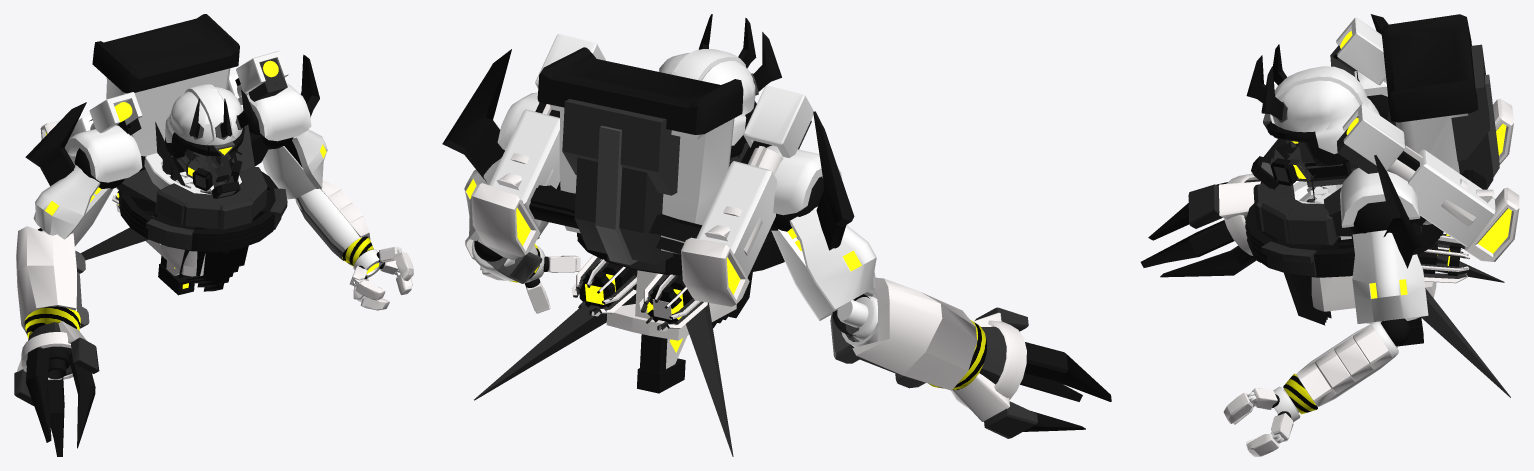
File: solver_juggernaut.glb
3 views of the same model, side by side, from view 1: azimuth 30°, elevation 25°; view 2: azimuth 150°, elevation 25°; view 3: azimuth 270°, elevation 25° (orthographic). The views are drawn at different scales.
Parts seen in each view (by area): view 1: Object_10, Object_16, Object_18, Object_9, Object_11, Object_8, Object_21, Object_15, Object_2, Object_19; view 2: Object_16, Object_9, Object_10, Object_18, Object_11, Object_5, Object_21, Object_3, Object_8, Object_19, Object_2, Object_15 (+1 smaller); view 3: Object_10, Object_16, Object_9, Object_18, Object_8, Object_11, Object_5, Object_2, Object_19, Object_21, Object_3, Object_15 (+1 smaller).
Part boxes in pixels (left/top/right/bottom): Object_10: left=26, top=14, right=385, bottom=456; Object_16: left=33, top=50, right=383, bottom=311; Object_18: left=14, top=58, right=287, bottom=405; Object_9: left=16, top=84, right=413, bottom=379; Object_11: left=25, top=54, right=319, bottom=295; Object_8: left=165, top=86, right=242, bottom=145; Object_21: left=75, top=115, right=345, bottom=328; Object_15: left=24, top=236, right=373, bottom=338; Object_2: left=184, top=84, right=235, bottom=145; Object_19: left=45, top=60, right=378, bottom=288; Object_16: left=464, top=33, right=878, bottom=347; Object_9: left=465, top=104, right=1026, bottom=421; Object_10: left=474, top=14, right=1111, bottom=431; Object_18: left=474, top=120, right=1037, bottom=456; Object_11: left=442, top=49, right=854, bottom=393; Object_5: left=562, top=99, right=680, bottom=195; Object_21: left=486, top=73, right=925, bottom=388; Object_3: left=574, top=157, right=673, bottom=264; Object_8: left=658, top=52, right=755, bottom=145; Object_19: left=466, top=179, right=861, bottom=352; Object_2: left=672, top=49, right=746, bottom=80; Object_15: left=509, top=244, right=986, bottom=389; Object_10: left=1140, top=14, right=1486, bottom=417; Object_16: left=1273, top=17, right=1495, bottom=422; Object_9: left=1218, top=78, right=1519, bottom=456; Object_18: left=1188, top=45, right=1510, bottom=397; Object_8: left=1272, top=80, right=1359, bottom=154; Object_11: left=1261, top=14, right=1423, bottom=346; Object_5: left=1451, top=44, right=1490, bottom=160; Object_2: left=1270, top=66, right=1379, bottom=123; Object_19: left=1291, top=31, right=1511, bottom=298; Object_21: left=1261, top=74, right=1499, bottom=347; Object_3: left=1457, top=133, right=1493, bottom=189; Object_15: left=1260, top=182, right=1317, bottom=413.
Size of the model in its own units: 5.42 by 3.65 by 3.51.
Materials: 19 (1 with a texture image).
